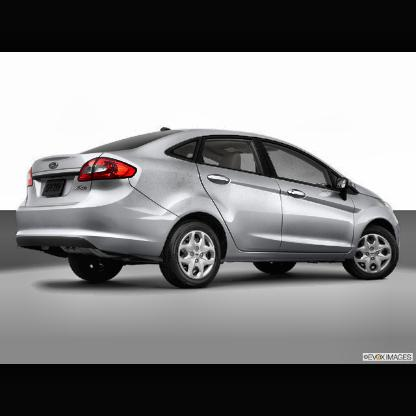Ford Fiesta Sedan 2012: (16, 127, 402, 292)
